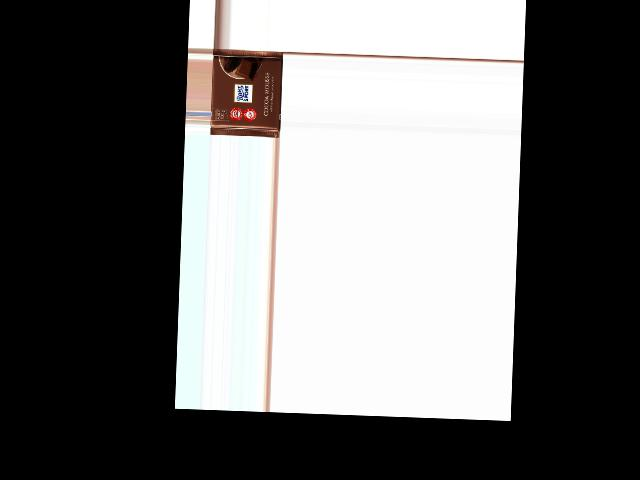chocolate: (210, 48, 284, 136)
